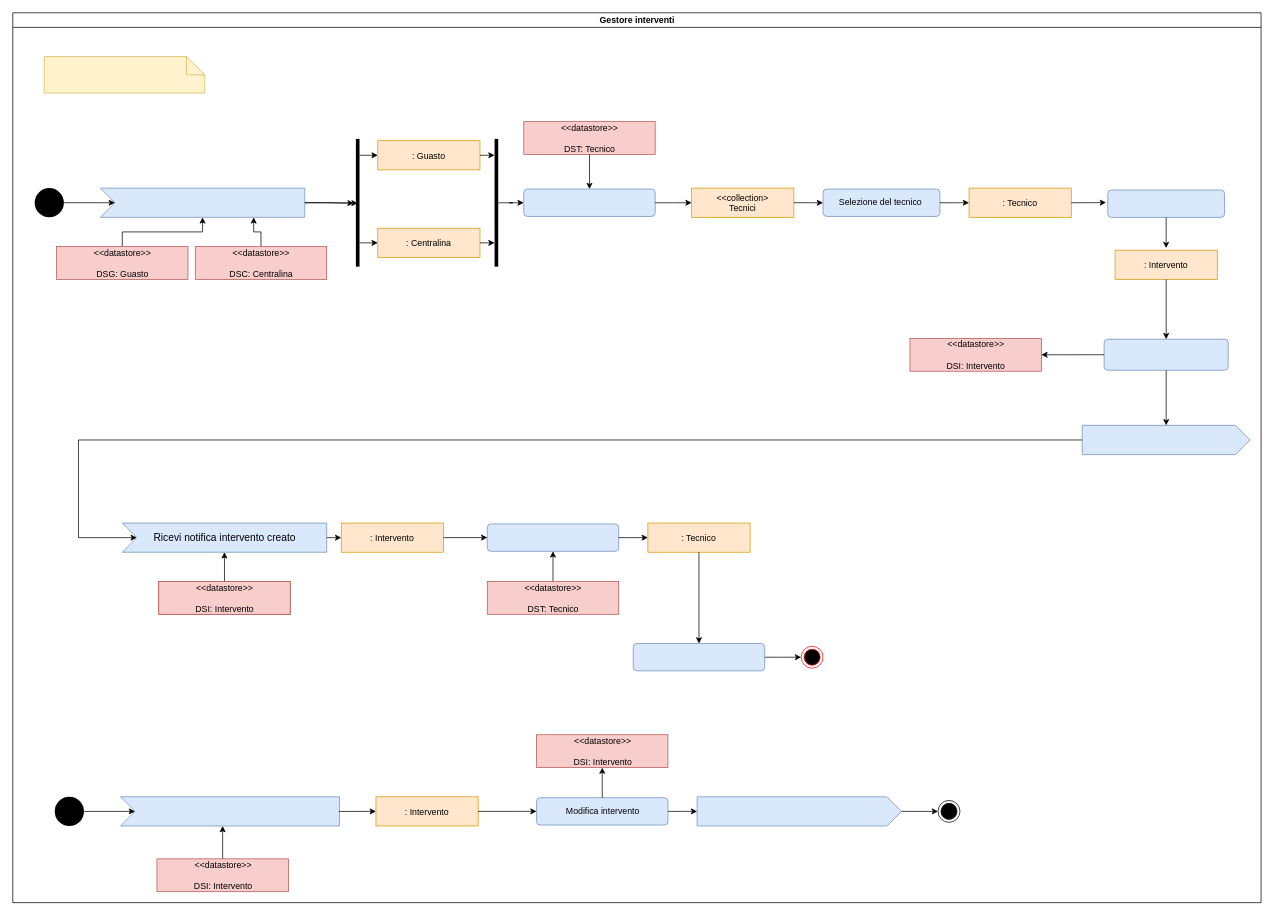
Image size: 1274x915. Some labels were removed from this diagram. The centre of each missing label's shape, as x and y in pixels:
Contatta il tecnico: pixel 699 657
Creazione dell'intervento: pixel 1166 203
Molteplicità: # Guasti: pixel 124 74
Notifica creazione intervento: pixel 1165 440
Notifica modifica all'intervento: pixel 799 811
Recupero delle informazioni sul tecnico: pixel 553 537
Recupero informazioni tecnici: pixel 589 202
Ricevi richiesta modifica intervento: pixel 229 811
Ricevi richiesta selezione tecnico: pixel 202 202
Salvataggio dell'intervento: pixel 1165 354
